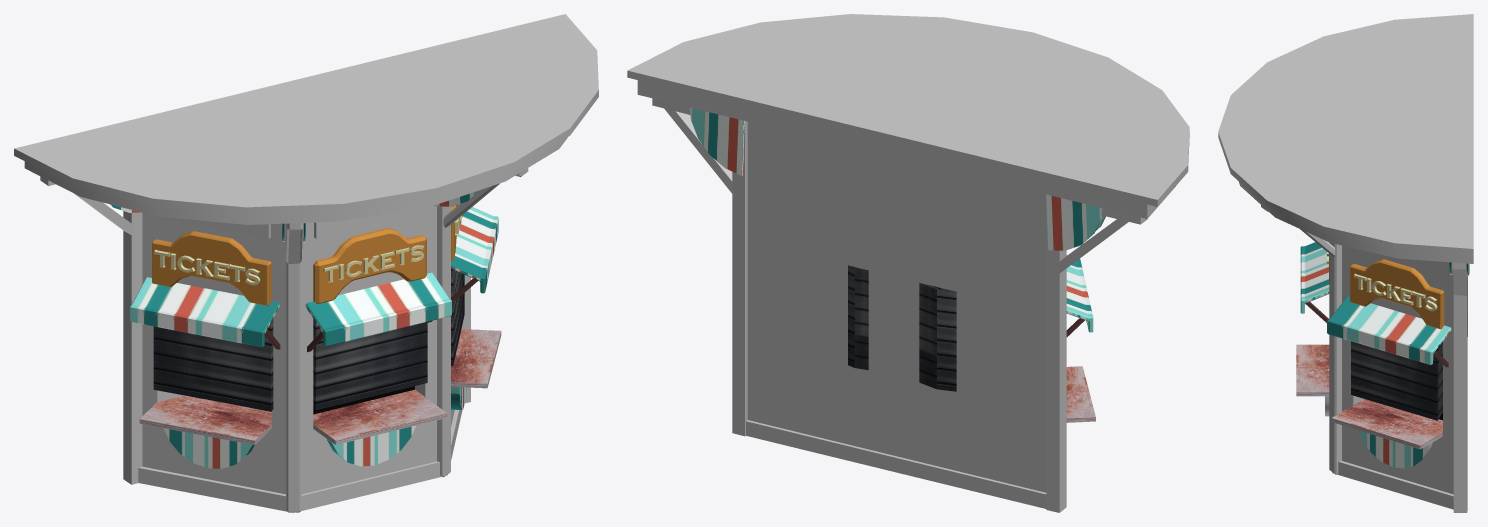
The model's file is ticketstand.fbx.
3 views of the same model, side by side, from view 1: azimuth 30°, elevation 25°; view 2: azimuth 150°, elevation 25°; view 3: azimuth 270°, elevation 25° (orthographic). The views are drawn at different scales.
Parts seen in each view (by area): view 1: pasted__pCylinder1, pCube5, pasted__pasted__pCube4 (×3), pasted__pasted__pasted__pCube4 (×4), pasted__pCube4 (×2), polySurface2, polySurface4, pCylinder1, pasted__pCube1, pCube4, pasted__pCylinder2, pCylinder2 (+1 smaller); view 2: pCube5, pasted__pCylinder1, polySurface4, pCylinder1, pasted__pasted__pasted__pCube4, pasted__pCube1, polySurface24, polySurface22, pasted__pCube4, pasted__pasted__pCube4; view 3: pasted__pCylinder1, pasted__pasted__pasted__pCube4 (×2), pCube5, pasted__pCube4 (×2), pasted__pasted__pCube4, polySurface4, polySurface2, pCylinder1, pasted__pCube1, pCube4, pasted__pCylinder2.
Boxes of the visible parts, x1,y1,x2,y2 form: pasted__pCylinder1: (14,14,598,214); pCube5: (142,205,454,494); pasted__pasted__pCube4 (×3): (130,207,498,409); pasted__pasted__pasted__pCube4 (×4): (152,204,464,411); pasted__pCube4 (×2): (139,272,501,444); polySurface2: (286,168,528,512); polySurface4: (40,176,470,484); pCylinder1: (24,137,567,224); pasted__pCube1: (138,410,462,512); pCube4: (313,389,447,444); pasted__pCylinder2: (163,386,466,468); pCylinder2: (326,425,416,466); pCube5: (747,121,1046,492); pasted__pCylinder1: (627,14,1189,206); polySurface4: (652,98,1147,512); pCylinder1: (637,78,1176,218); pasted__pasted__pasted__pCube4: (848,265,956,391); pasted__pCube1: (746,420,1046,508); polySurface24: (1046,194,1102,250); polySurface22: (689,107,744,175); pasted__pCube4: (1066,366,1095,422); pasted__pasted__pCube4: (1066,255,1093,332); pasted__pCylinder1: (1218,14,1473,255); pasted__pasted__pasted__pCube4 (×2): (1350,259,1467,420); pCube5: (1342,245,1453,494); pasted__pCube4 (×2): (1300,242,1442,449); pasted__pasted__pCube4: (1327,296,1451,364); polySurface4: (1452,262,1467,512); polySurface2: (1261,205,1341,474); pCylinder1: (1238,181,1473,263); pasted__pCube1: (1332,461,1453,509); pCube4: (1296,344,1329,396); pasted__pCylinder2: (1359,430,1432,468).
Size of the model in its own units: 41 by 25.14 by 18.83.
